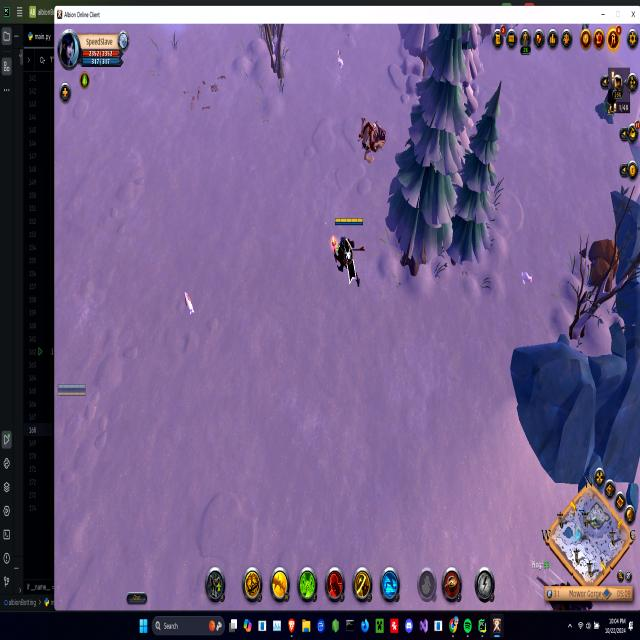ore: (358, 114, 384, 162)
player: (594, 91, 614, 130)
red: (328, 213, 366, 290), (56, 377, 88, 402)
tree: (581, 227, 625, 300)
